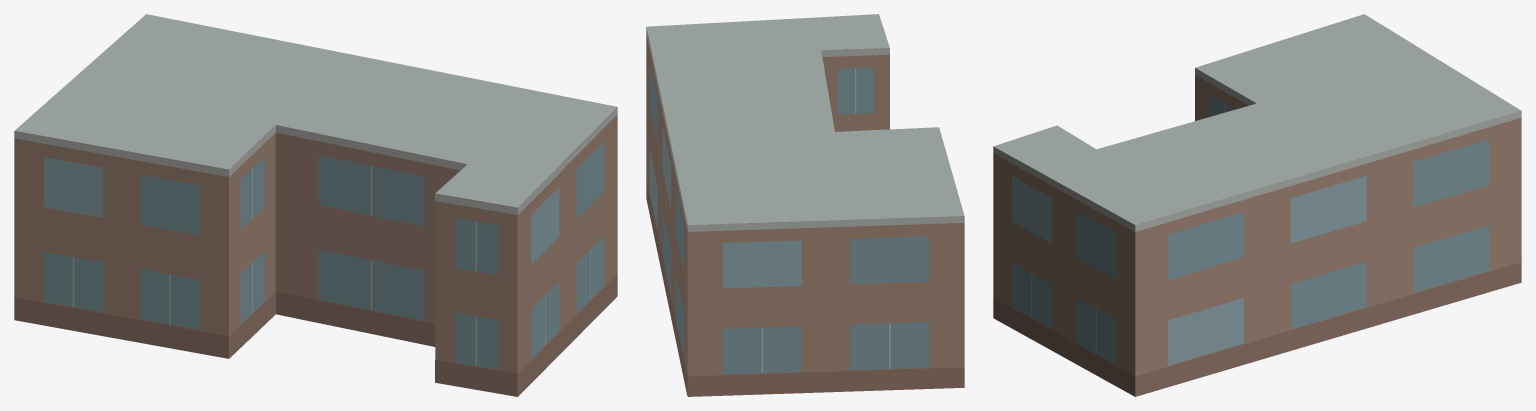
The model's file is survey-upis-33031660.glb.
The picture shows the model from 3 angles, left to right: view 1: azimuth 30°, elevation 25°; view 2: azimuth 150°, elevation 25°; view 3: azimuth 270°, elevation 25°; orthographic projection. The views are drawn at different scales.
Parts seen in each view (by area): view 1: survey-upis-33031660.tmp; view 2: survey-upis-33031660.tmp; view 3: survey-upis-33031660.tmp.
Part boxes in pixels (<box>): survey-upis-33031660.tmp: <box>14,14,617,396</box>; survey-upis-33031660.tmp: <box>646,14,964,396</box>; survey-upis-33031660.tmp: <box>993,14,1521,396</box>.
Size of the model in its own units: 16.09 by 6.1 by 17.02.
